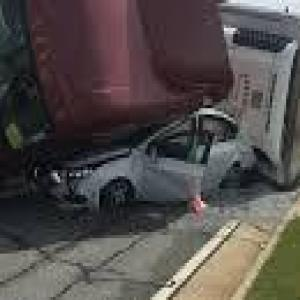fatal: (0, 0, 300, 223)
